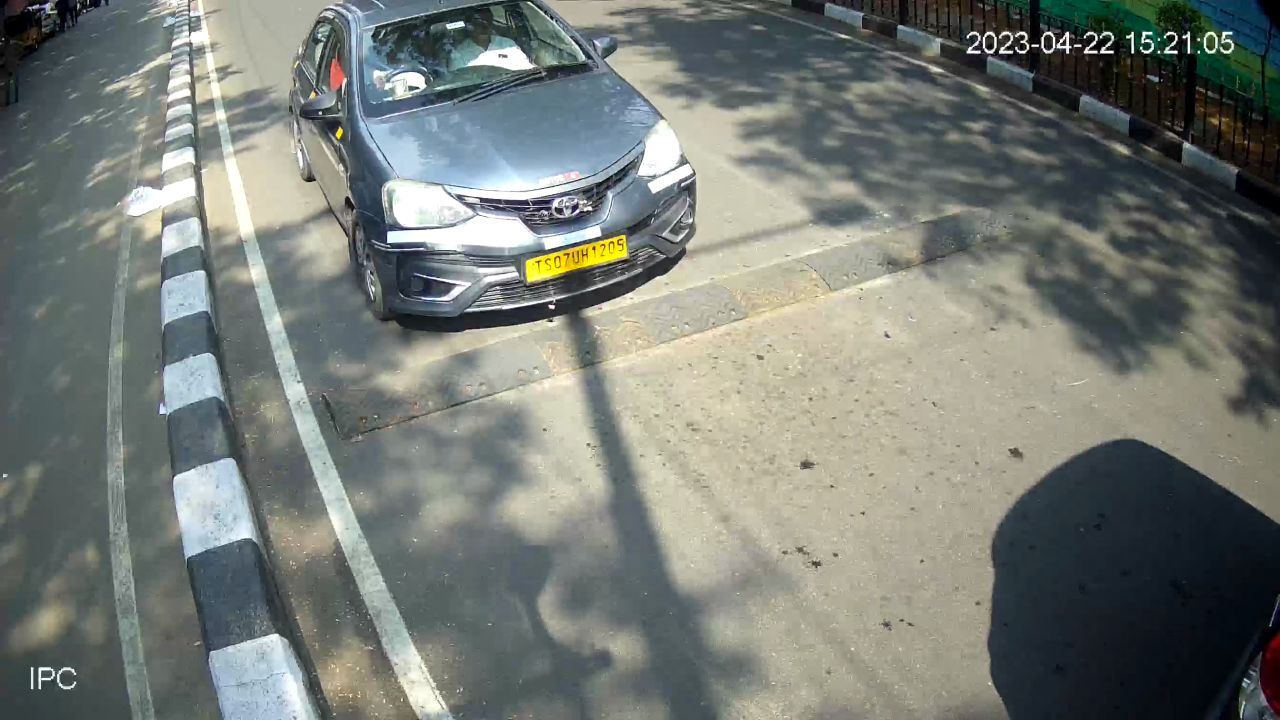license_plate: (520, 229, 630, 288)
